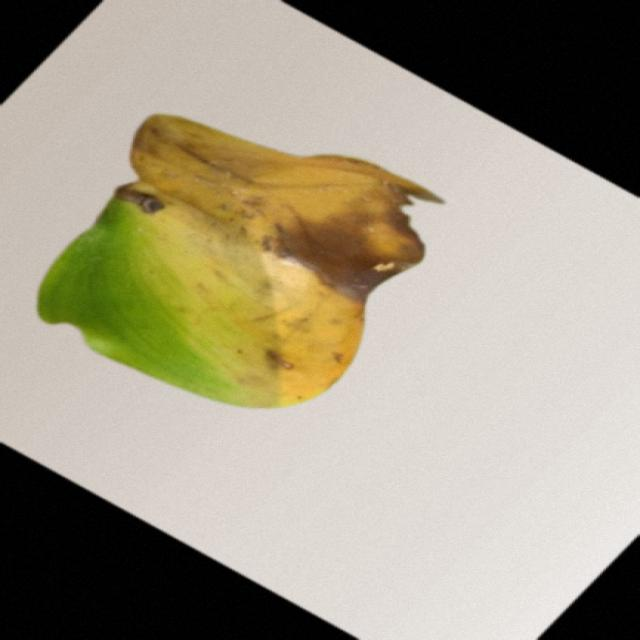daun berpenyakit kuning: (38, 115, 441, 407)
